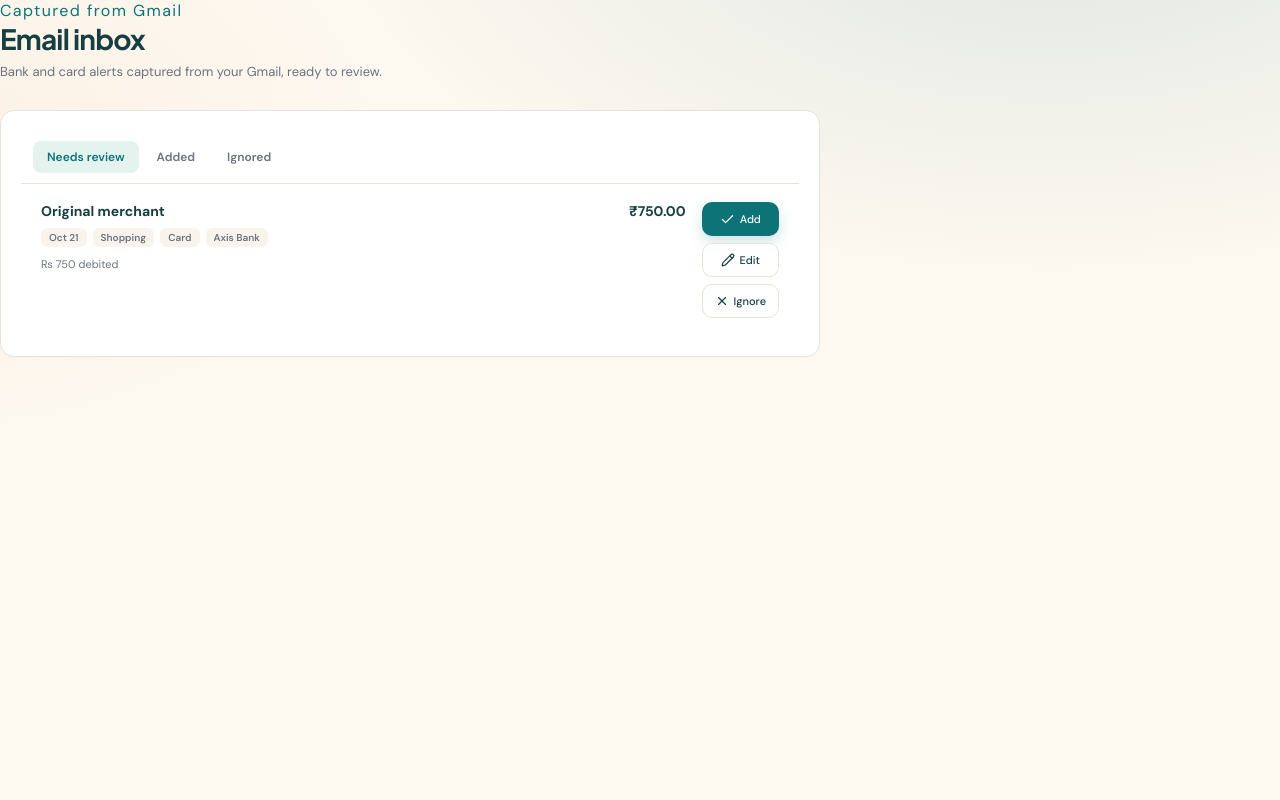
Test: InboxPage › opens the edit modal prefilled and saves the edited expense
Expected: the text "Original merchant" is shown, top-left (41, 202), bottom-right (165, 220)
Click the button "Edit" at (740, 260), box top-left (702, 243), bottom-right (779, 277)
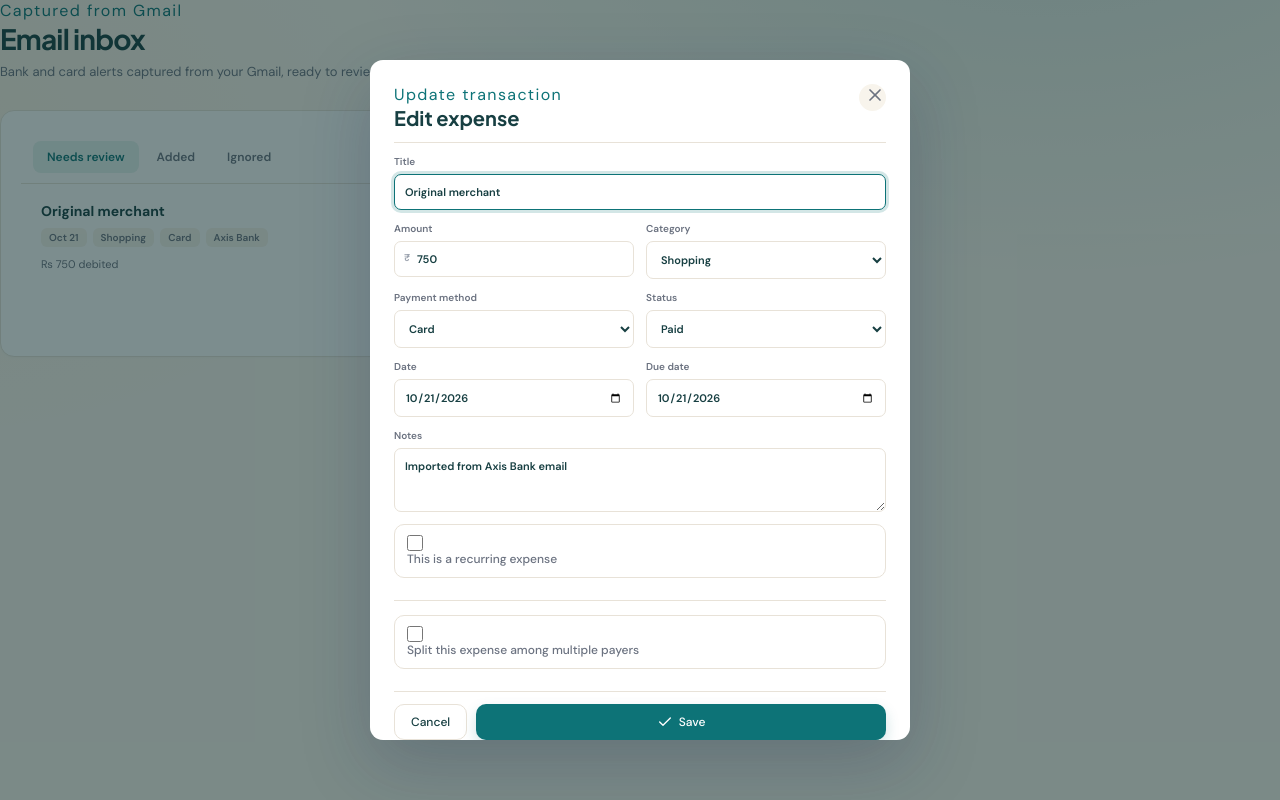
Now the heading "Edit expense" is shown, box top-left (394, 105), bottom-right (520, 130)
Now the field with placeholder "e.g. Weekly groceries" holds "Original merchant"
Replace the text in the field with placeholder "e.g. Weekly groceries" with "Edited merchant" at (640, 192), box top-left (394, 174), bottom-right (886, 210)
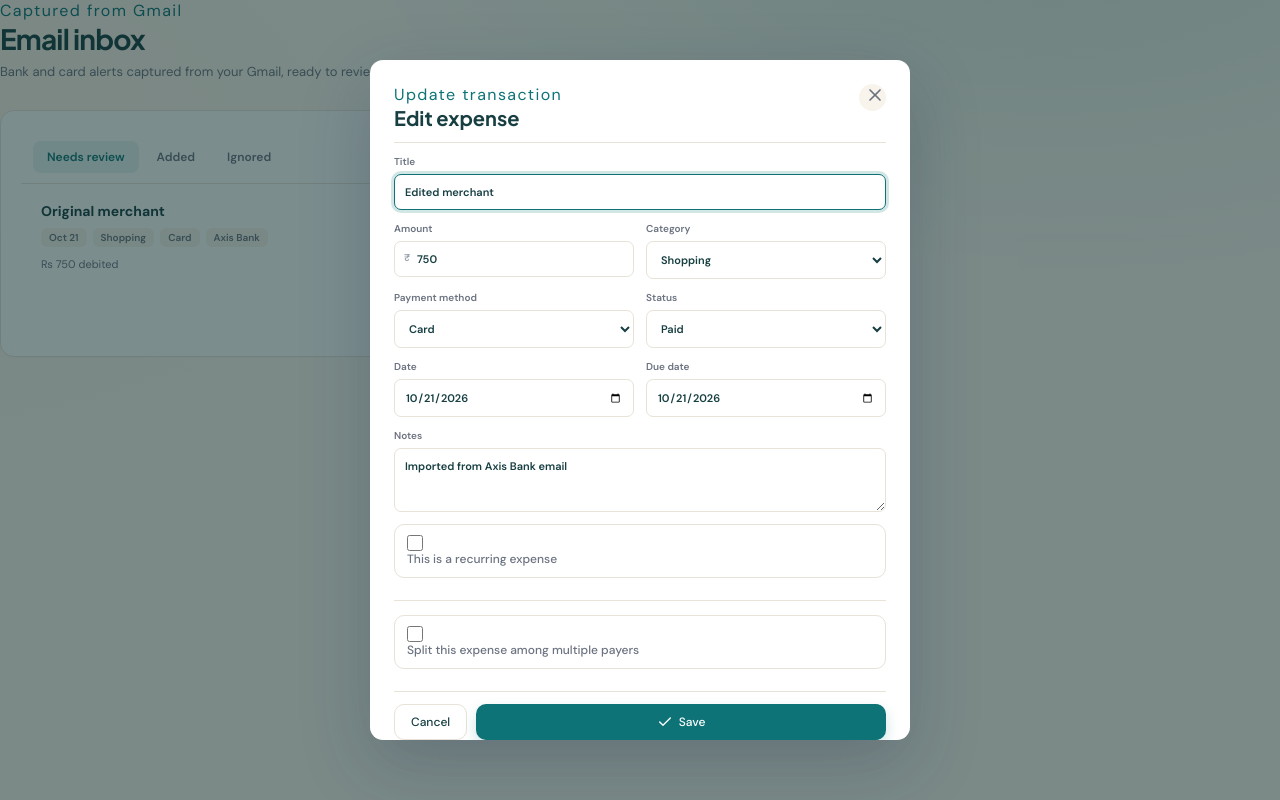
Click the button "Save" at (681, 722), box top-left (476, 704), bottom-right (886, 740)
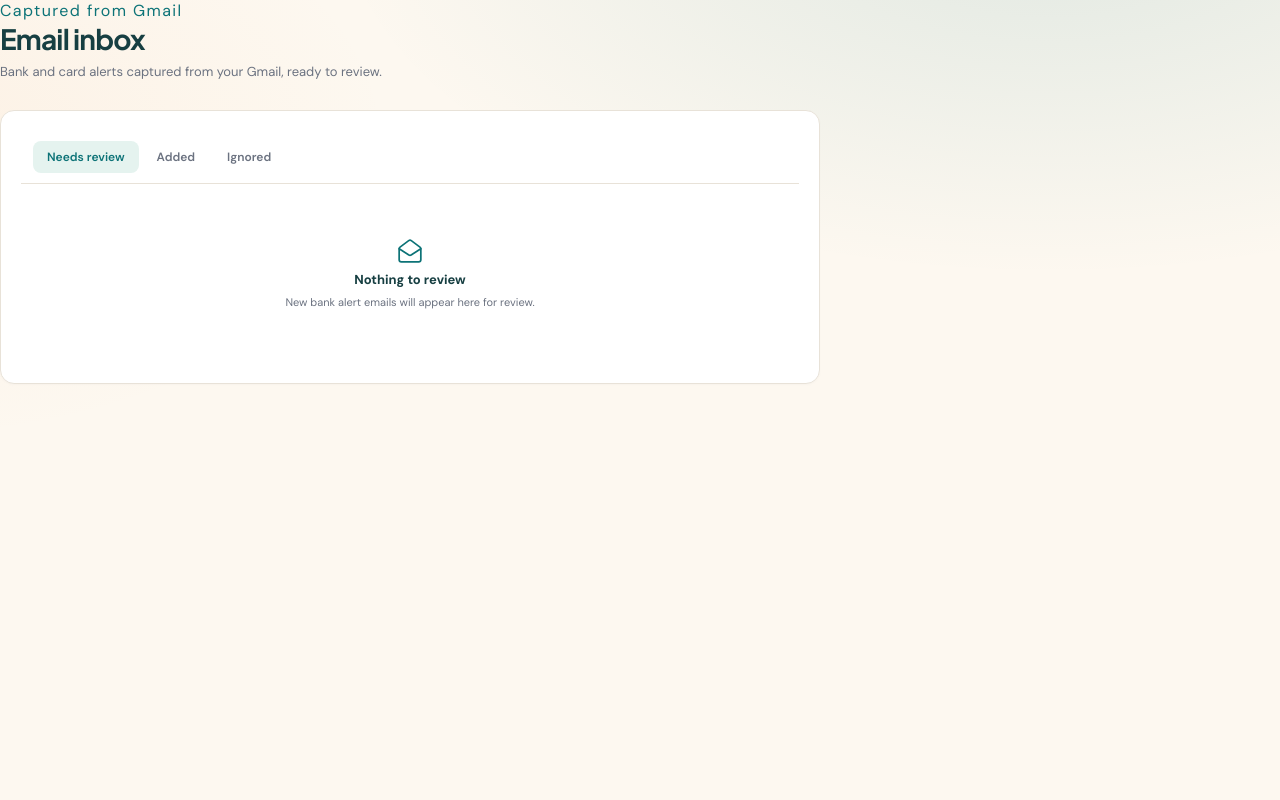
Now the heading "Edit expense" is gone
